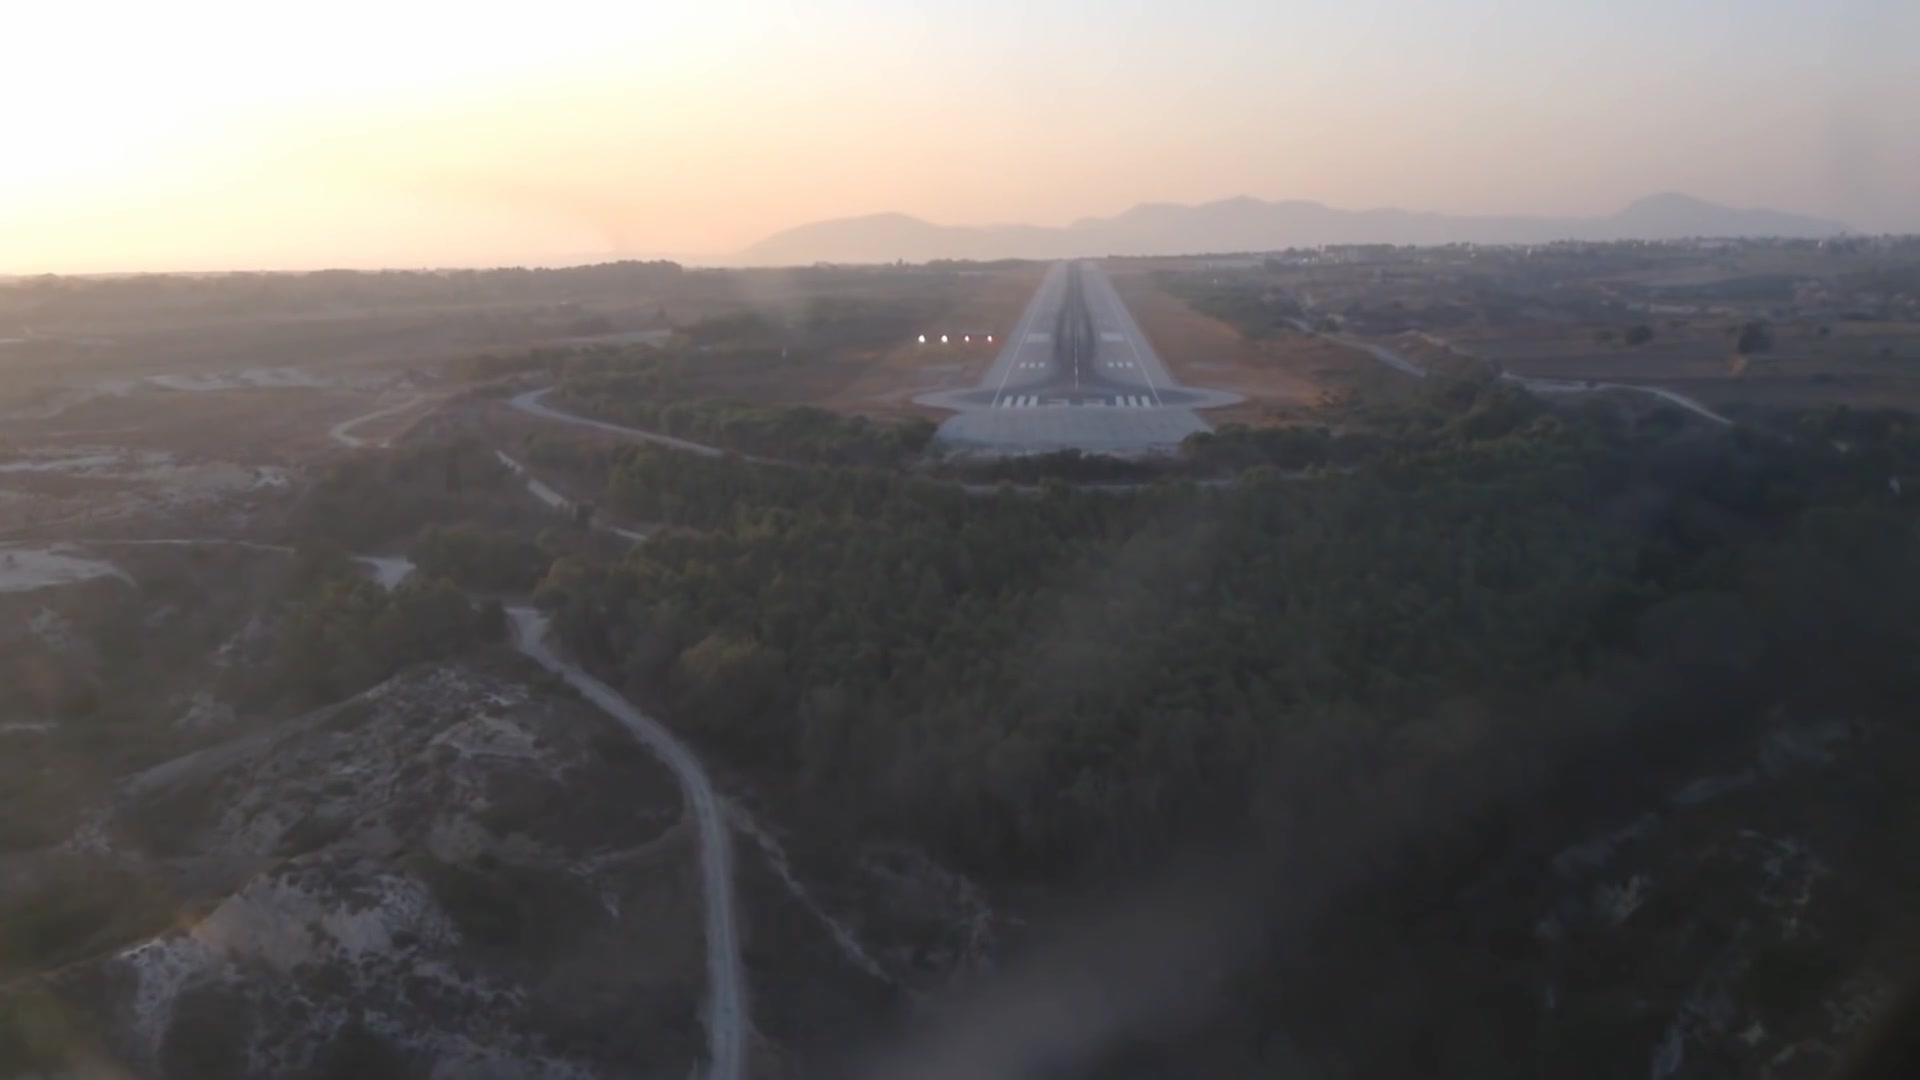entrance: (1001, 392, 1154, 411)
runway: (938, 264, 1215, 448)
